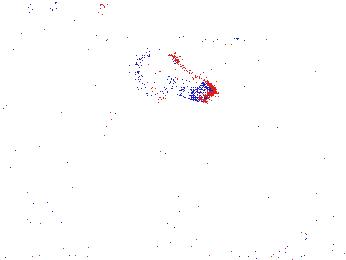flame jellyfish: (126, 46, 216, 104), (148, 151, 211, 225), (4, 166, 71, 219)
